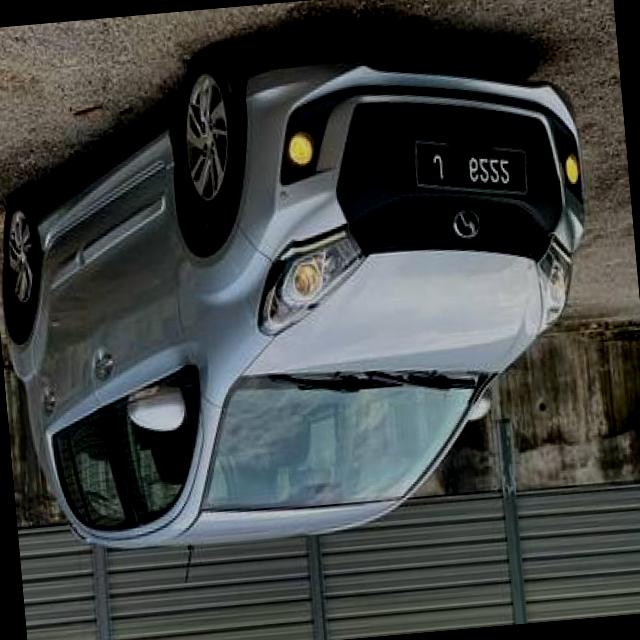PeroduaMyvi: (0, 14, 614, 568)
